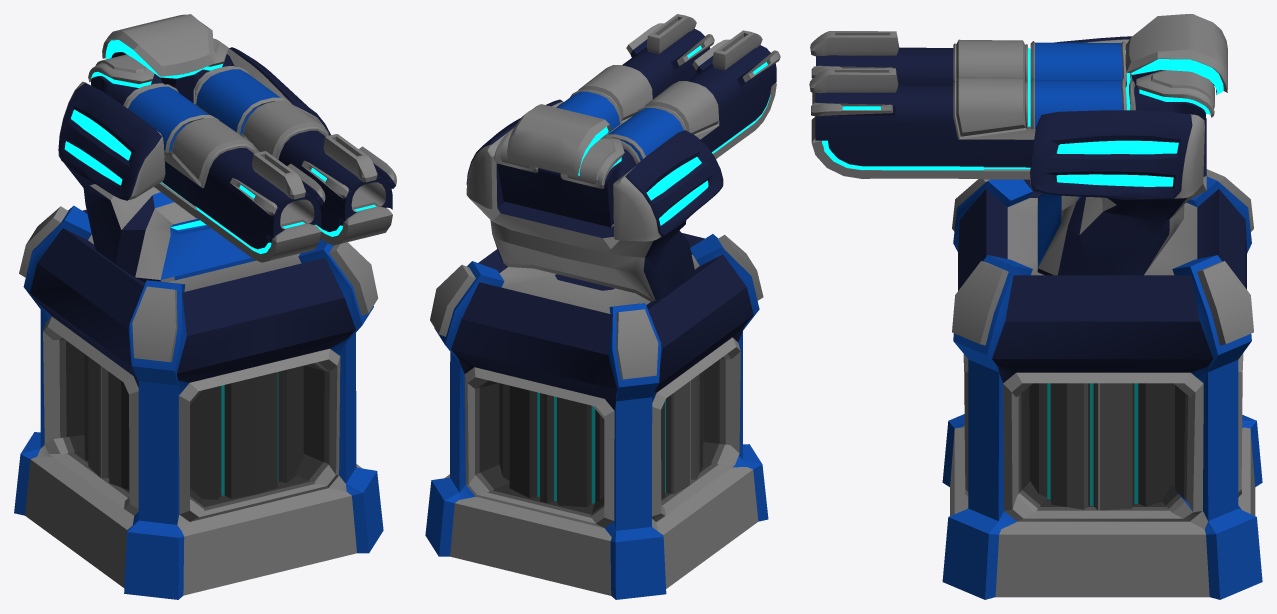
File: tower defense lazer kule2 .fbx
3 renders of one model, left to right at view 1: azimuth 30°, elevation 25°; view 2: azimuth 150°, elevation 25°; view 3: azimuth 270°, elevation 25°, orthographic. The views are drawn at different scales.
Visible parts, largest first — view 1: Cube.005, Cube.016, Cube.015, Cube.013, Cube.018; view 2: Cube.005, Cube.015, Cube.016, Cube.013, Cube.018; view 3: Cube.005, Cube.015, Cube.016, Cube.018, Cube.013.
Boxes of the visible parts, <box> form: Cube.005: <box>14,205,383,599</box>; Cube.016: <box>88,14,328,218</box>; Cube.015: <box>58,47,330,282</box>; Cube.013: <box>195,148,325,262</box>; Cube.018: <box>278,130,396,245</box>; Cube.005: <box>425,233,768,599</box>; Cube.015: <box>466,99,723,301</box>; Cube.016: <box>494,65,719,227</box>; Cube.013: <box>688,30,780,158</box>; Cube.018: <box>622,14,714,98</box>; Cube.005: <box>942,169,1262,599</box>; Cube.015: <box>1030,36,1206,275</box>; Cube.016: <box>953,14,1227,179</box>; Cube.018: <box>809,68,983,178</box>; Cube.013: <box>810,31,953,104</box>.
Size of the model in its own units: 2.22 by 3.14 by 3.83.
